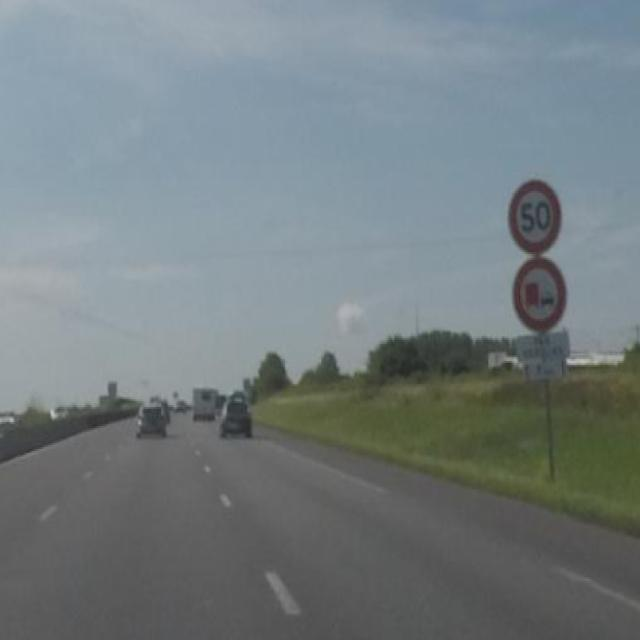speed_50: (510, 180, 561, 252)
